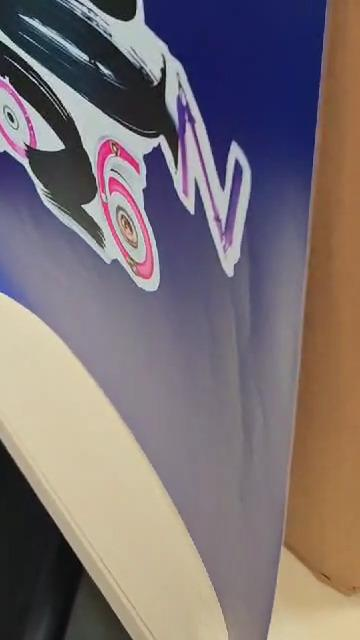B_R1: (0, 0, 267, 343)
